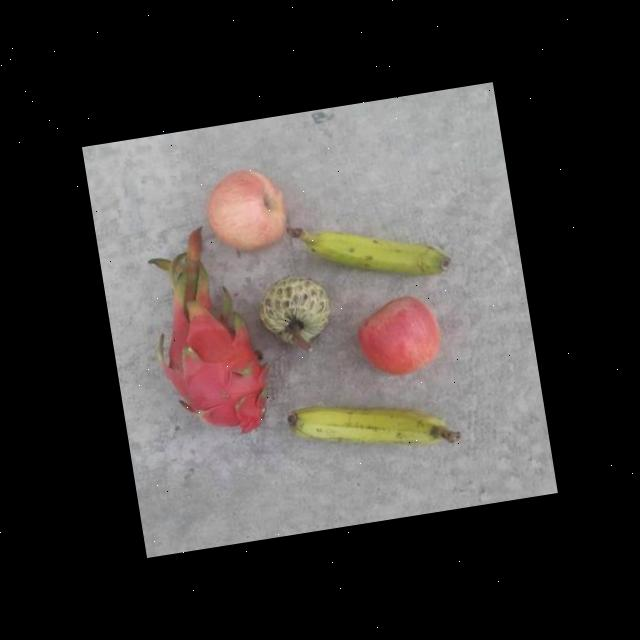Sakya fruit: (252, 270, 338, 358)
apple: (346, 290, 450, 384), (202, 162, 295, 260)
banana: (284, 384, 462, 471), (288, 204, 452, 294)
pitaya: (150, 275, 278, 448)
